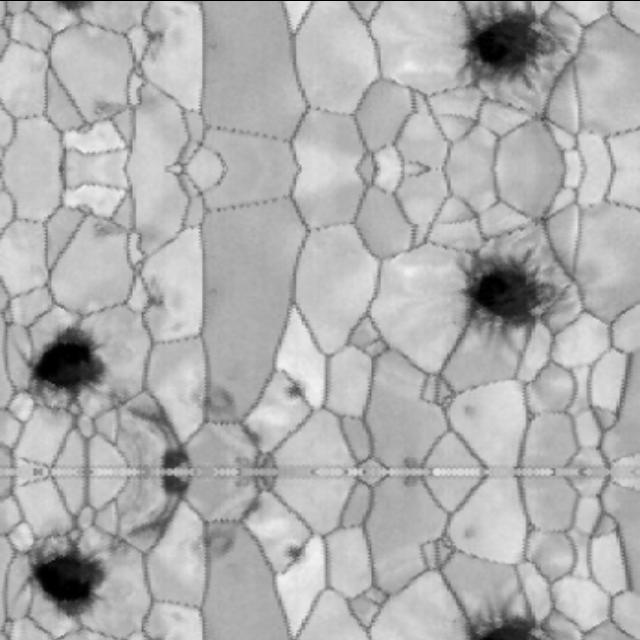good_void: (443, 250, 578, 351), (443, 0, 578, 87), (449, 593, 578, 640), (61, 324, 104, 392), (61, 552, 104, 620), (118, 403, 175, 442), (118, 502, 175, 541), (191, 378, 241, 416), (191, 528, 241, 566), (140, 286, 170, 316), (140, 21, 170, 51), (238, 419, 265, 449), (238, 495, 265, 525), (88, 218, 125, 238), (88, 99, 125, 119), (399, 446, 426, 472), (399, 472, 426, 498), (455, 397, 481, 422), (455, 522, 481, 547), (159, 447, 184, 472), (159, 472, 184, 497), (528, 207, 552, 233), (528, 104, 552, 130), (283, 382, 306, 398), (283, 546, 306, 562), (144, 628, 168, 640), (208, 284, 219, 296), (208, 41, 219, 53)
